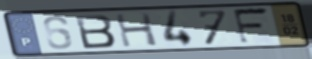4: (161, 8, 195, 48)
6: (41, 15, 75, 51)
7: (196, 9, 229, 47)
B: (73, 13, 118, 50)
F: (230, 6, 272, 47)
H: (112, 11, 160, 49)
